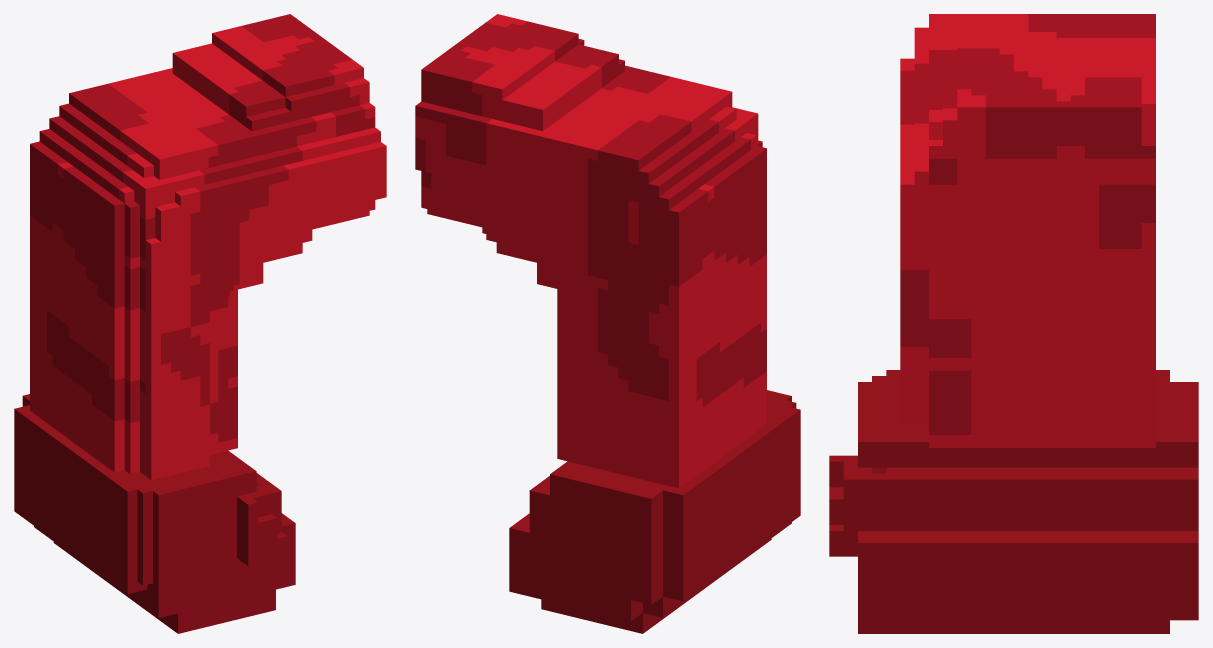
Rendered from MeleeRogatiy-1.obj.
The picture shows the model from 3 angles, left to right: view 1: azimuth 30°, elevation 25°; view 2: azimuth 150°, elevation 25°; view 3: azimuth 270°, elevation 25°; orthographic projection. The views are drawn at different scales.
Size of the model in its own units: 2.7 by 4.7 by 2.6.
Materials: 1 (1 with a texture image).
